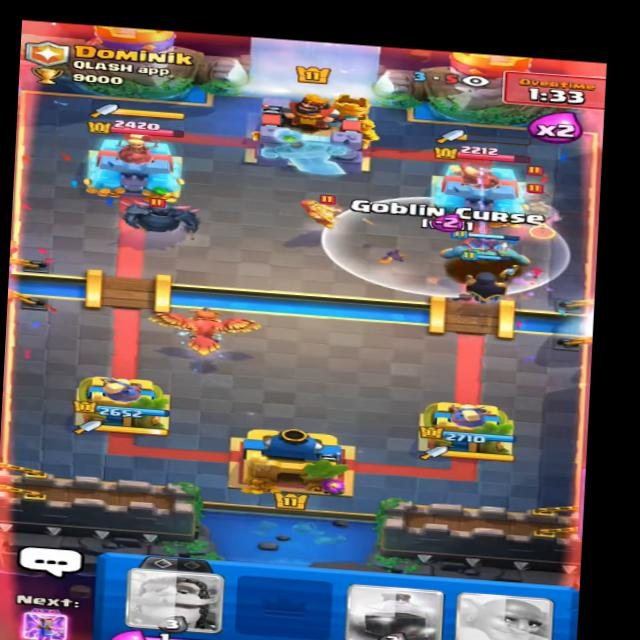Pekka: (110, 186, 202, 242)
Royalghost: (509, 191, 571, 237)
Wizard: (296, 192, 348, 231)
